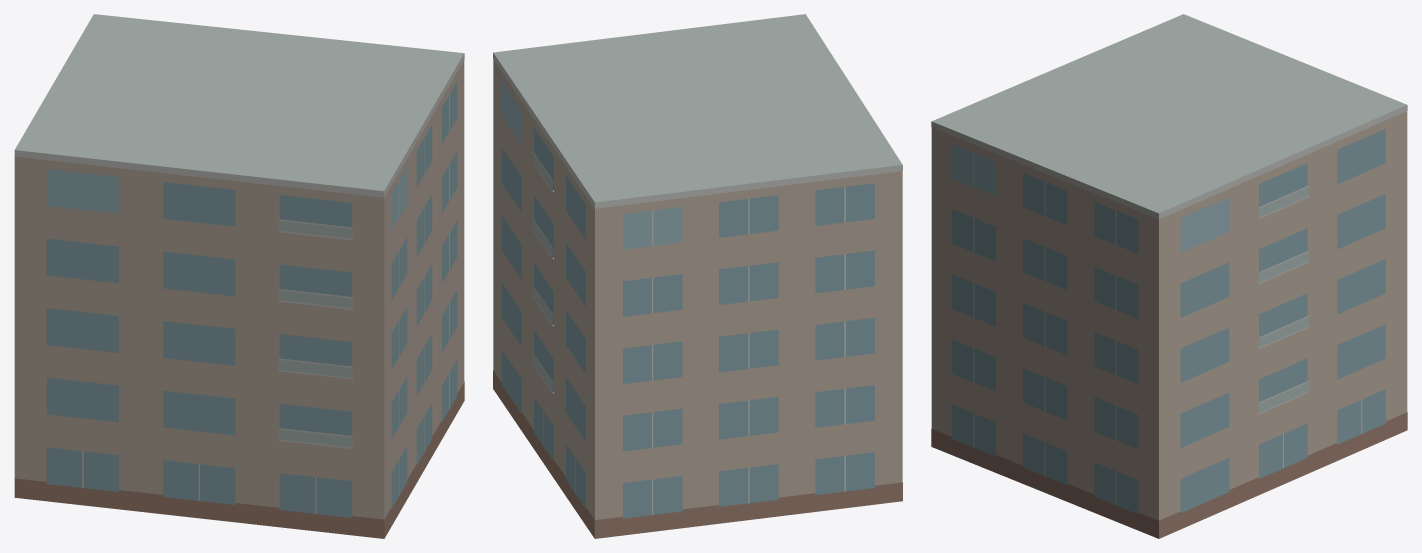
Rendered from survey-upis-32885046.glb.
The picture shows the model from 3 angles, left to right: view 1: azimuth 30°, elevation 25°; view 2: azimuth 150°, elevation 25°; view 3: azimuth 270°, elevation 25°; orthographic projection. The views are drawn at different scales.
Visible parts, largest first — view 1: survey-upis-32885046.tmp; view 2: survey-upis-32885046.tmp; view 3: survey-upis-32885046.tmp.
Boxes of the visible parts, left/top/right/bottom form: survey-upis-32885046.tmp: left=14, top=14, right=464, bottom=538; survey-upis-32885046.tmp: left=493, top=14, right=902, bottom=538; survey-upis-32885046.tmp: left=931, top=14, right=1407, bottom=538.
Size of the model in its own units: 17.09 by 13 by 17.23.
